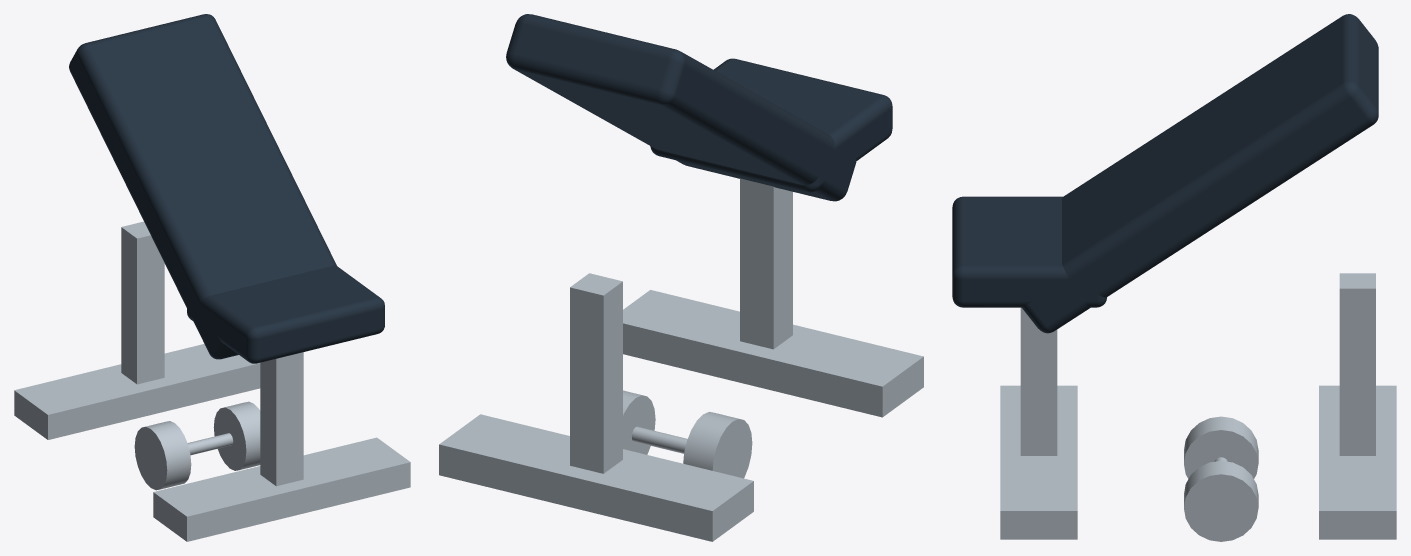
Rendered from dumbbell_incline.glb.
The picture shows the model from 3 angles, left to right: view 1: azimuth 30°, elevation 25°; view 2: azimuth 150°, elevation 25°; view 3: azimuth 270°, elevation 25°; orthographic projection. The views are drawn at different scales.
Visible parts, largest first — view 1: seat, benchFoot (×2), seatPad, benchLeg (×2), Ldumbbell; view 2: benchFoot (×2), seat, benchLeg (×2), seatPad, Ldumbbell; view 3: seat, benchFoot (×2), seatPad, benchLeg (×2), Ldumbbell.
Boxes of the visible parts, x1,y1,x2,y2 form: seat: (69,14,336,359); benchFoot (×2): (14,344,410,541); seatPad: (187,265,384,363); benchLeg (×2): (121,221,303,486); Ldumbbell: (134,401,260,490); benchFoot (×2): (439,290,923,541); seat: (506,14,856,201); benchLeg (×2): (570,178,792,473); seatPad: (650,58,892,192); Ldumbbell: (623,390,752,478); seat: (1022,14,1378,333); benchFoot (×2): (1000,385,1396,539); seatPad: (952,196,1106,307); benchLeg (×2): (1020,273,1375,455); Ldumbbell: (1184,416,1258,541).
Bounding box in the file's own units: 0.65 × 1.13 × 0.975.
